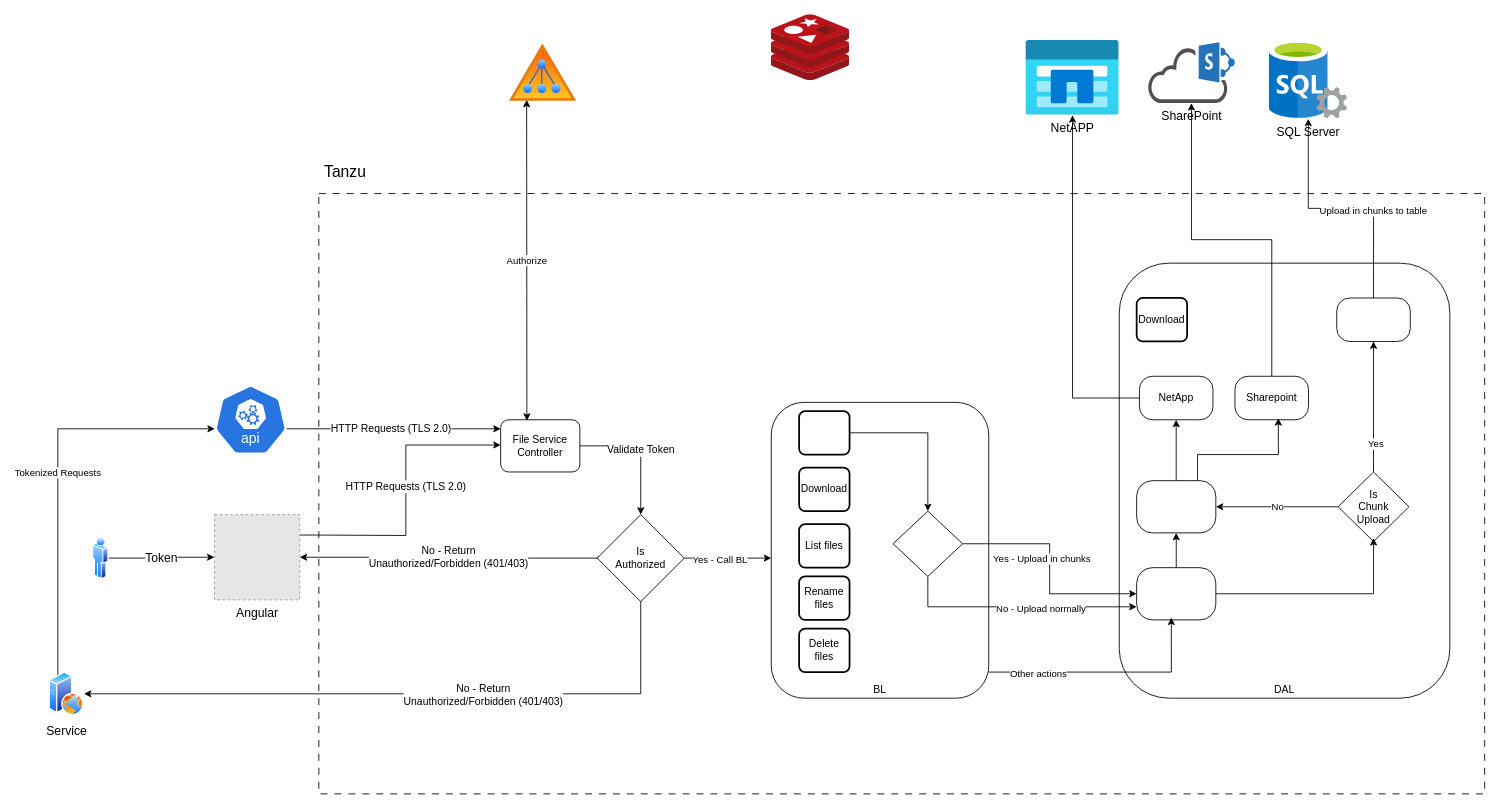
This 1500x810 diagram has some shape labels left out. Grey dashed boxes stand in for pictures. Here are the shapes that lost their labels. From the top down, the centre of each, then its label:
At point (810, 47): "Redis".
At point (542, 71): "ADFS".
At point (1373, 319): "Entity Framework".
At point (824, 432): "Upload".
At point (1176, 506): "Factory".
At point (100, 557): "User".
At point (927, 543): "Is file/s > 100MB".
At point (1176, 593): "Repository".
